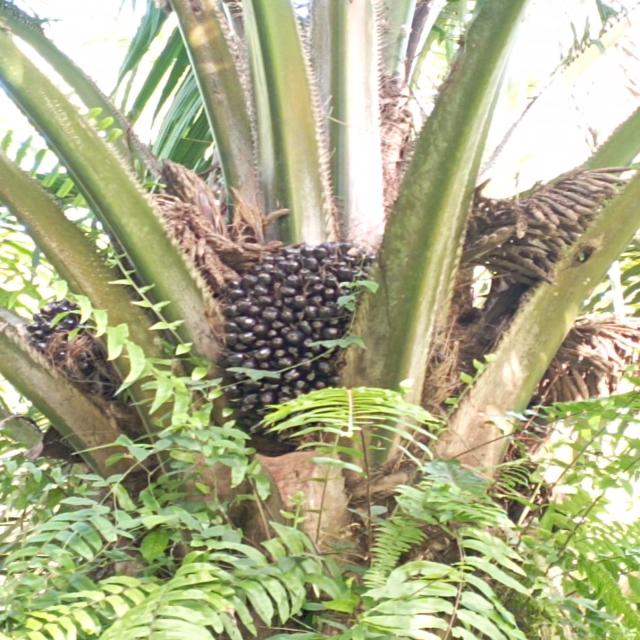fraksi 00: (192, 230, 432, 430)
